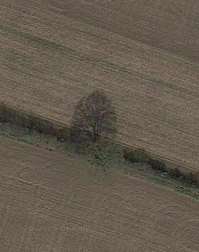tree: (73, 130, 123, 180)
